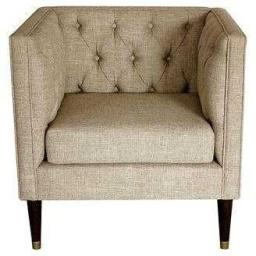Chair: (0, 5, 253, 252)
